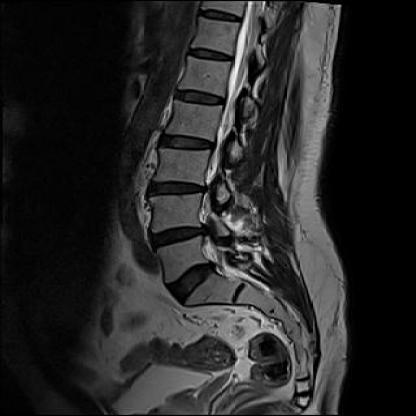Disc Bulgerotation: (150, 222, 204, 248), (145, 178, 206, 200), (159, 132, 215, 154)
Disc Protrusionrotation: (165, 267, 222, 297)
